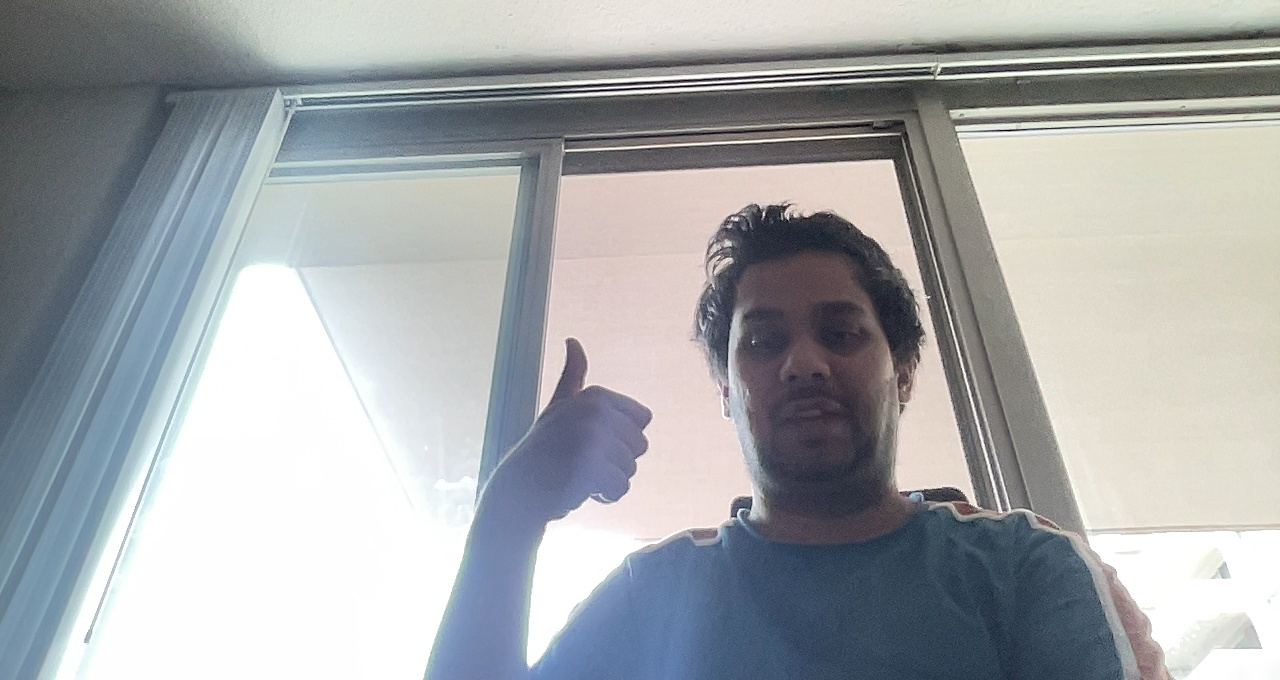thumbsup: (512, 331, 663, 504)
